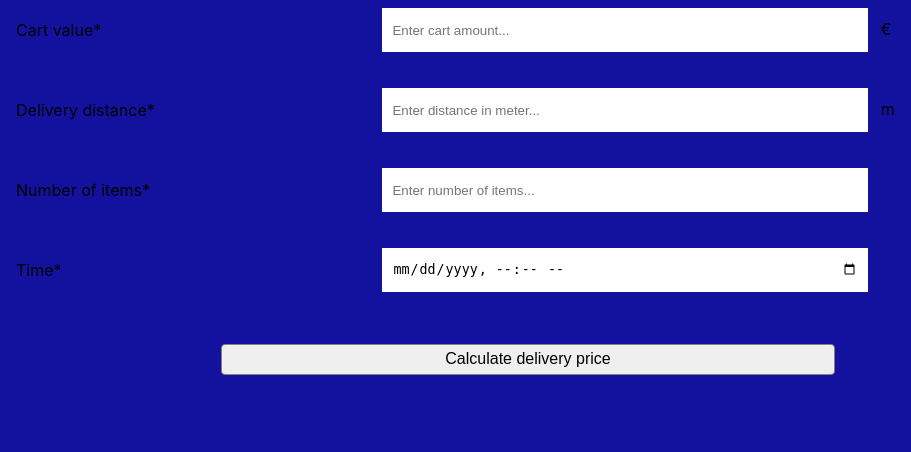
it: check DeliveryForm renders › Delivery charge appears after filling all the entries
This screenshot has width=911, height=452.
In the number field labelled "Cart value*": {"x": 625, "y": 30} [382,8,868,52], type "7"
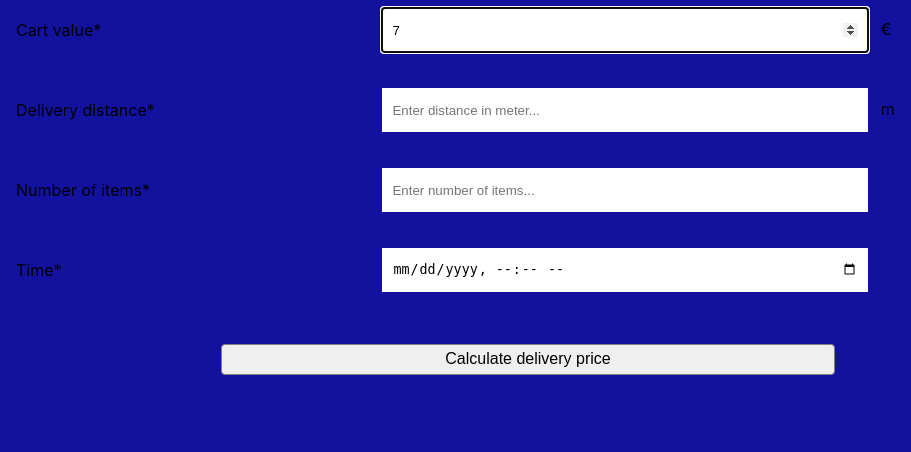
In the number field labelled "Delivery distance*": {"x": 625, "y": 110} [382,88,868,132], type "1000"
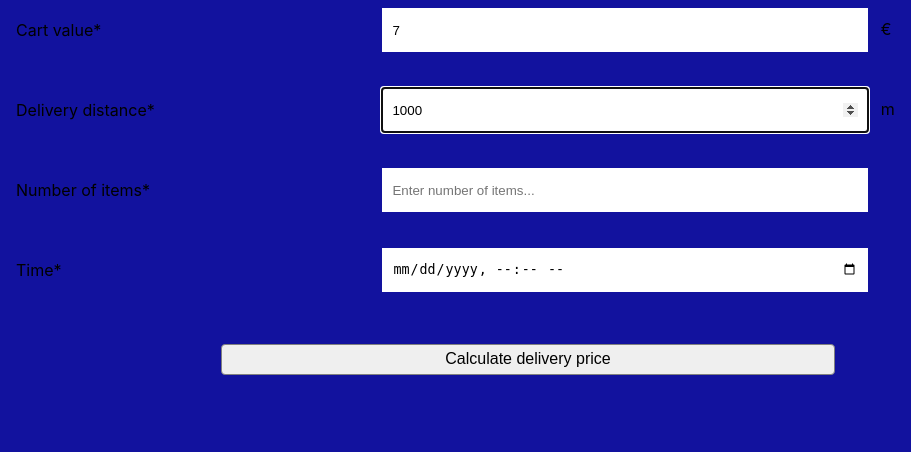
In the number field labelled "Number of items*": {"x": 625, "y": 190} [382,168,868,212], type "4"
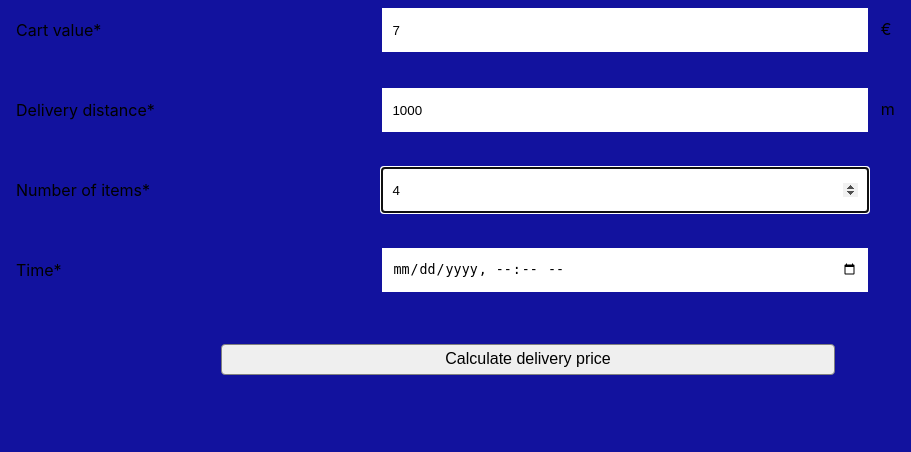
In the field labelled "Time*": {"x": 625, "y": 270} [382,248,868,292], type "2024-01-23T14:15"
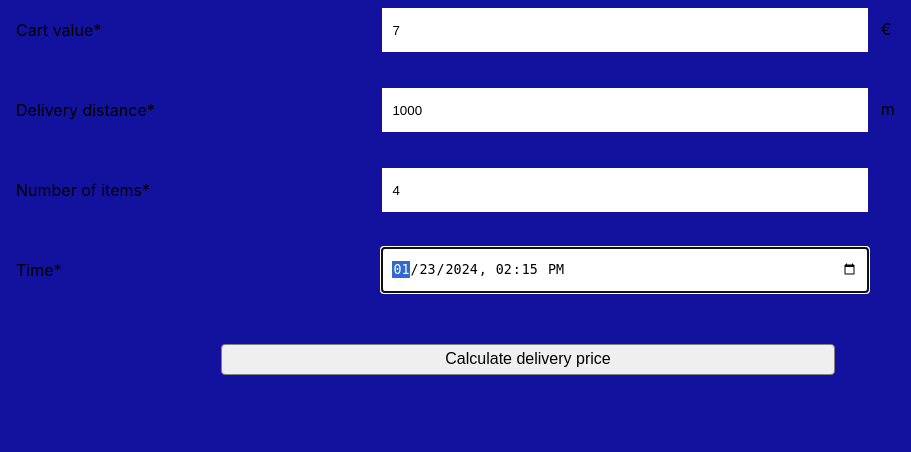
Click the button "Calculate delivery price": {"x": 528, "y": 359} [221,344,835,375]
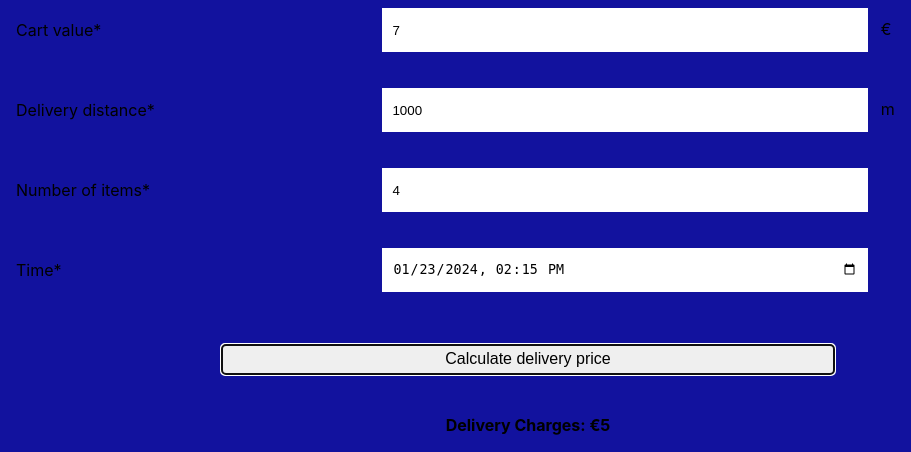
expect the text with test id "fee" reads "Delivery Charges: €5": met, box [446,415,610,435]
